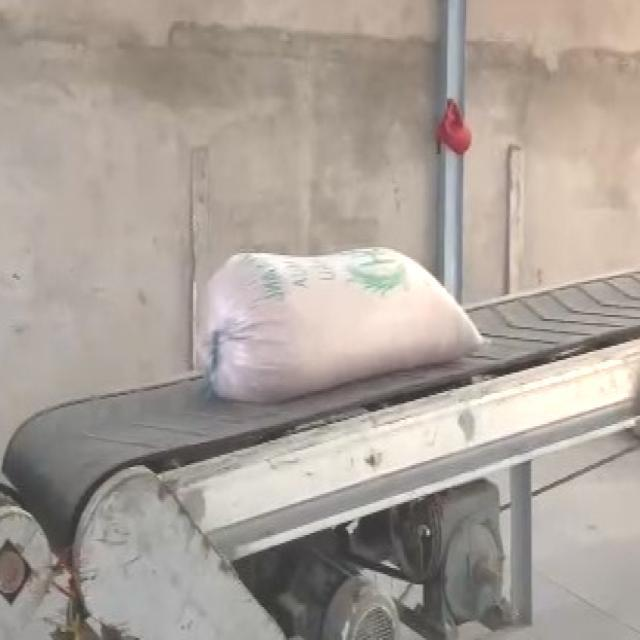gunny_bag: (204, 251, 482, 403)
